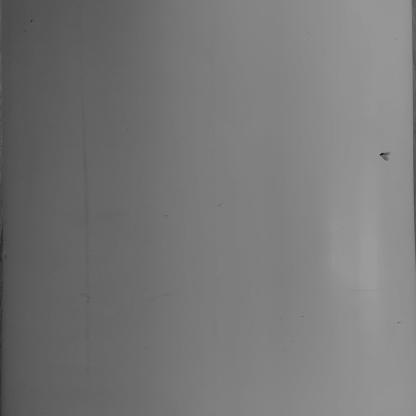kongdong: (374, 141, 406, 168)
